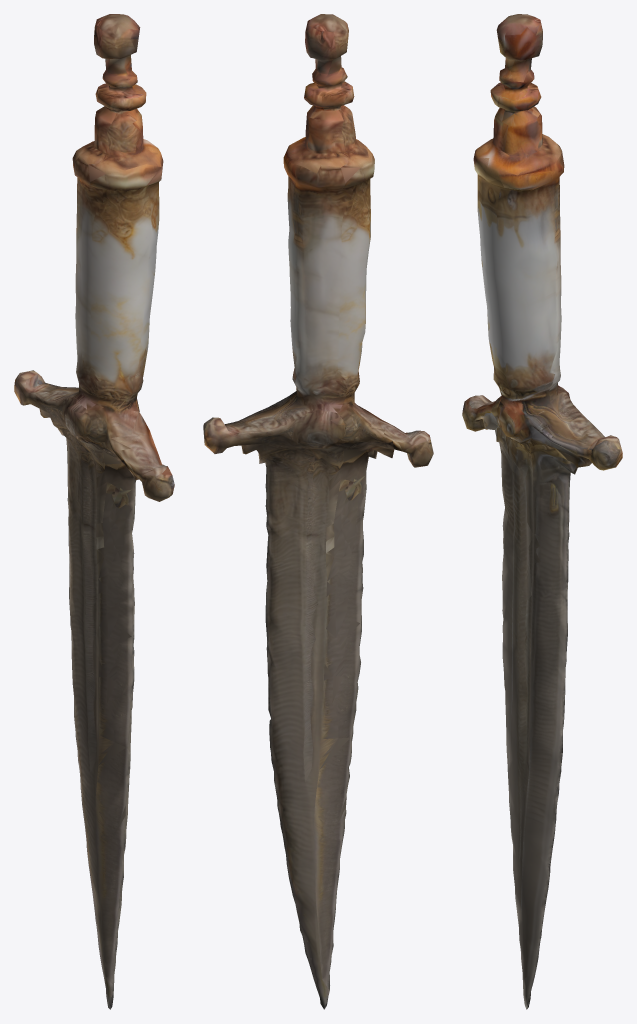
File: damocles.glb
3 views of the same model, side by side, from view 1: azimuth 90°, elevation 25°; view 2: azimuth 150°, elevation 25°; view 3: azimuth 270°, elevation 25° (orthographic).
Visible parts, largest first — view 1: Mesh1.0; view 2: Mesh1.0; view 3: Mesh1.0.
Part boxes in pixels (x1,y1,x2,y2): Mesh1.0: (14, 14, 174, 1009); Mesh1.0: (203, 14, 433, 1009); Mesh1.0: (462, 14, 622, 1009).
Bounding box in the file's own units: 0.0899 × 0.5197 × 0.0762.
Materials: 1 (1 with a texture image).
